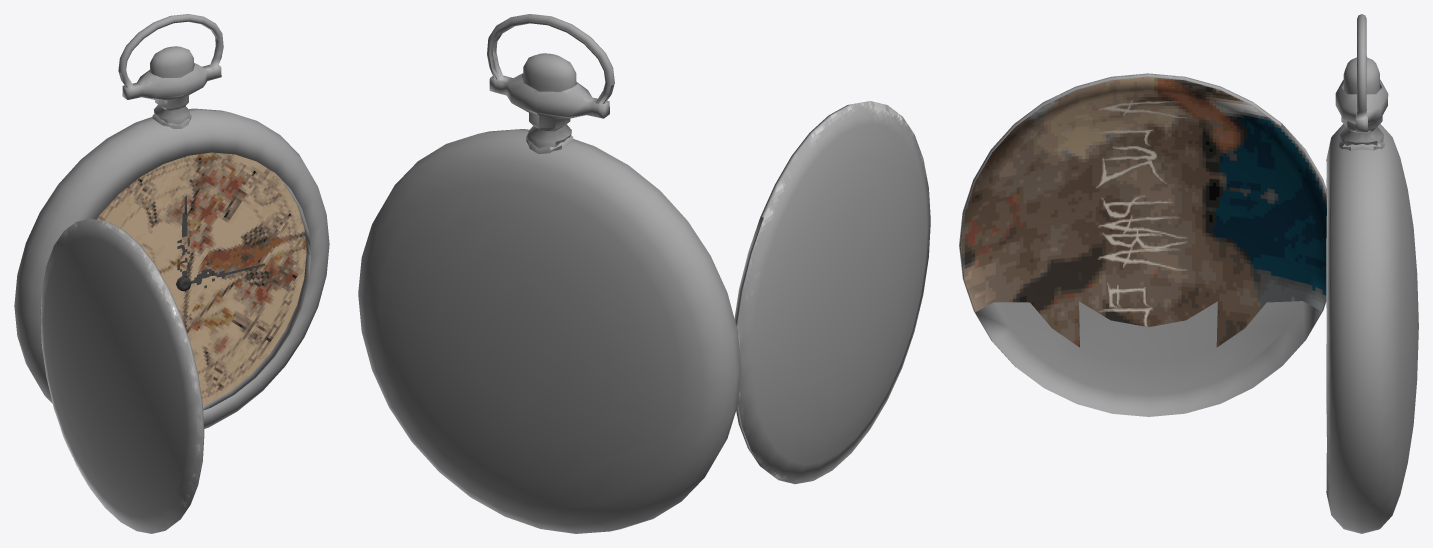
Rendered from RelogiodeBolso.fbx.
3 views of the same model, side by side, from view 1: azimuth 30°, elevation 25°; view 2: azimuth 150°, elevation 25°; view 3: azimuth 270°, elevation 25° (orthographic). The views are drawn at different scales.
Parts seen in each view (by area): view 1: relogio; view 2: relogio; view 3: relogio.
Part boxes in pixels (x1,y1,x2,y2): relogio: (14,14,329,533); relogio: (358,14,930,533); relogio: (959,14,1418,533).
Bounding box in the file's own units: 158 × 201 × 170.
1 material, 1 textured.
